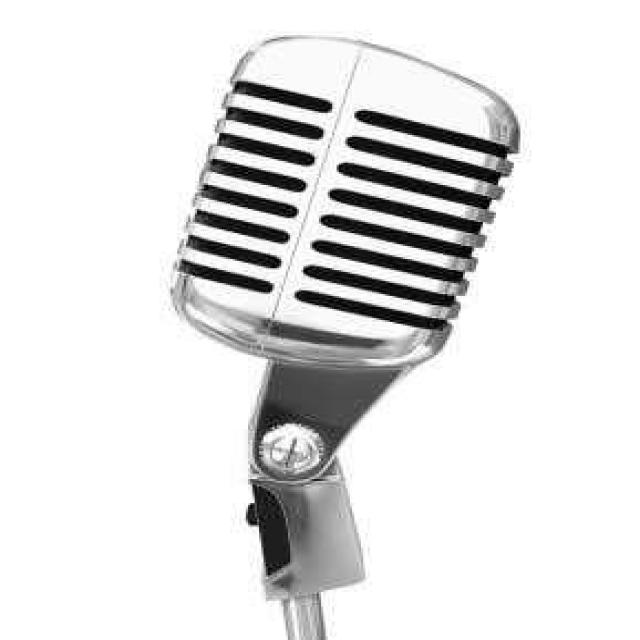microphone: (173, 36, 505, 590)
